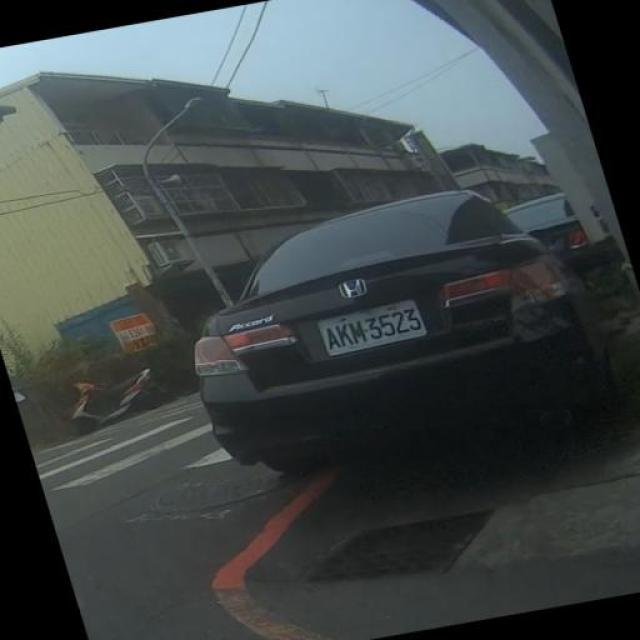illegalparking: (136, 180, 612, 498)
